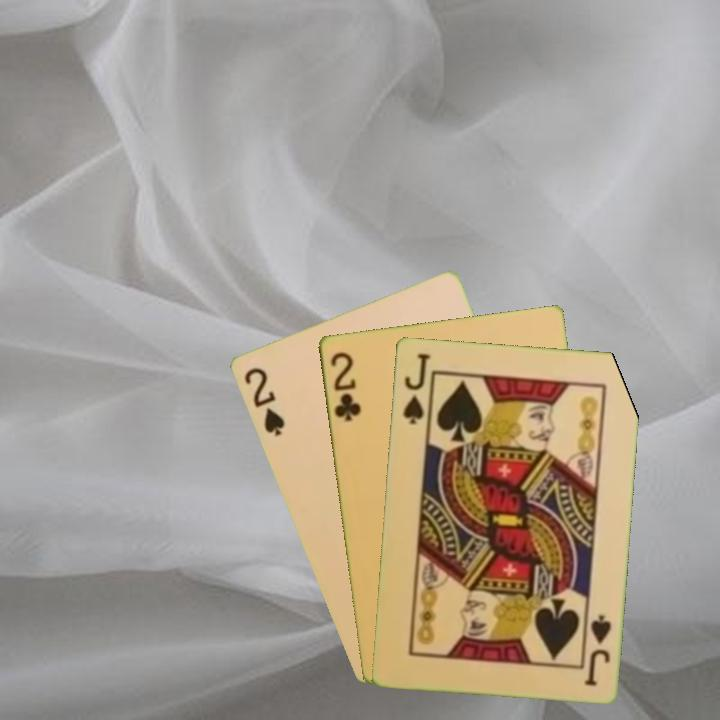2c: (326, 348, 364, 424)
2s: (240, 363, 287, 439)
Js: (399, 349, 433, 427), (580, 611, 613, 689)
